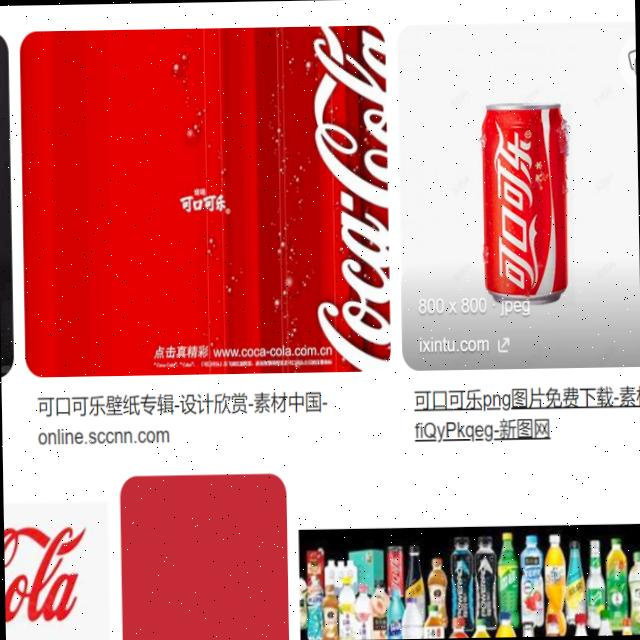coca_cola: (481, 104, 575, 308)
